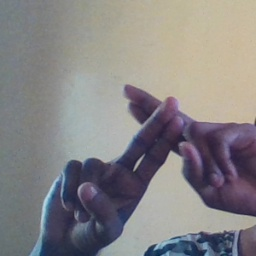F: (69, 75, 237, 188)
